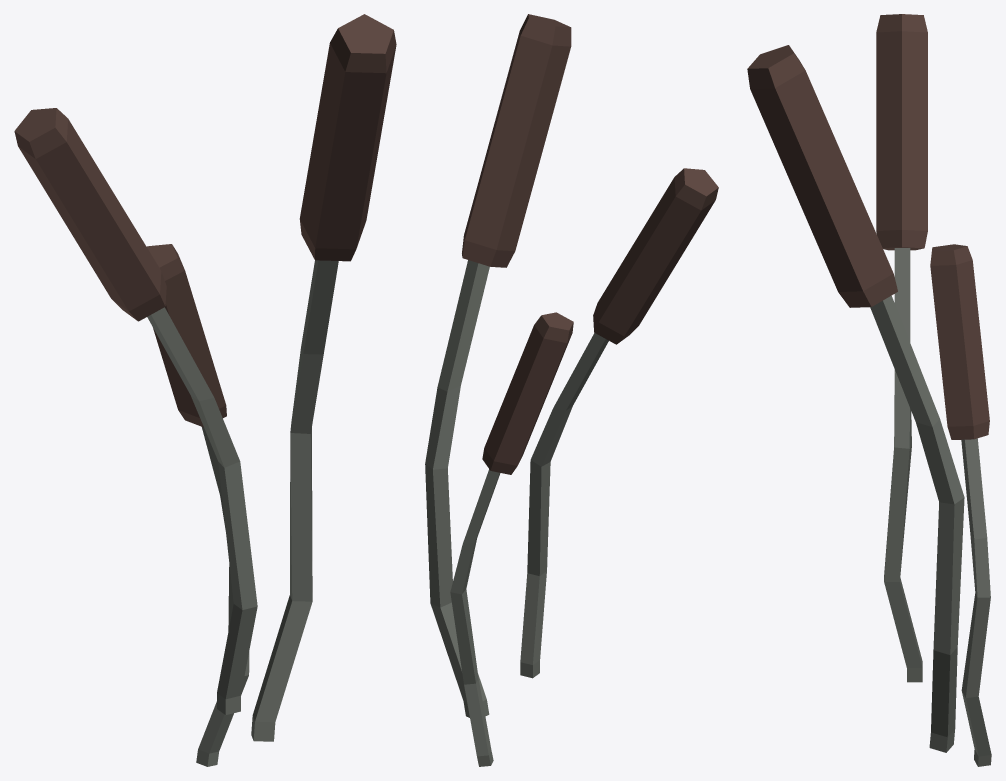
Rendered from fbBush10.fbx.
3 renders of one model, left to right at view 1: azimuth 30°, elevation 25°; view 2: azimuth 150°, elevation 25°; view 3: azimuth 270°, elevation 25°, orthographic. The views are drawn at different scales.
Parts seen in each view (by area): view 1: fbReeds2; view 2: fbReeds2; view 3: fbReeds2.
Boxes of the visible parts, <box> form: fbReeds2: <box>14,14,396,766</box>; fbReeds2: <box>425,14,718,766</box>; fbReeds2: <box>747,14,991,766</box>.
Bounding box in the file's own units: 74.59 × 180 × 54.3.
